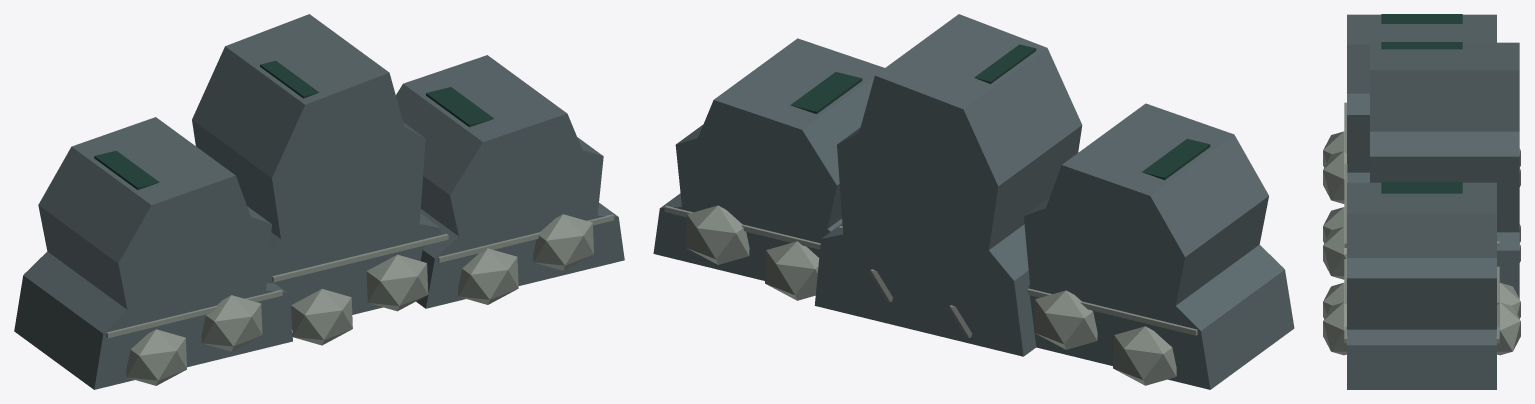
The model's file is PirateCove_TerrainBackdrop_Showcase.glb.
3 views of the same model, side by side, from view 1: azimuth 30°, elevation 25°; view 2: azimuth 150°, elevation 25°; view 3: azimuth 270°, elevation 25° (orthographic). The views are drawn at different scales.
Visible parts, largest first — view 1: PirateCove_TerrainBackdrop_Showcase; view 2: PirateCove_TerrainBackdrop_Showcase; view 3: PirateCove_TerrainBackdrop_Showcase.
Part boxes in pixels (box(x1,y1,x2,y2)): PirateCove_TerrainBackdrop_Showcase: box(14, 14, 624, 389); PirateCove_TerrainBackdrop_Showcase: box(653, 14, 1294, 389); PirateCove_TerrainBackdrop_Showcase: box(1323, 14, 1520, 389).
Size of the model in its own units: 17.6 by 7.7 by 6.08.
